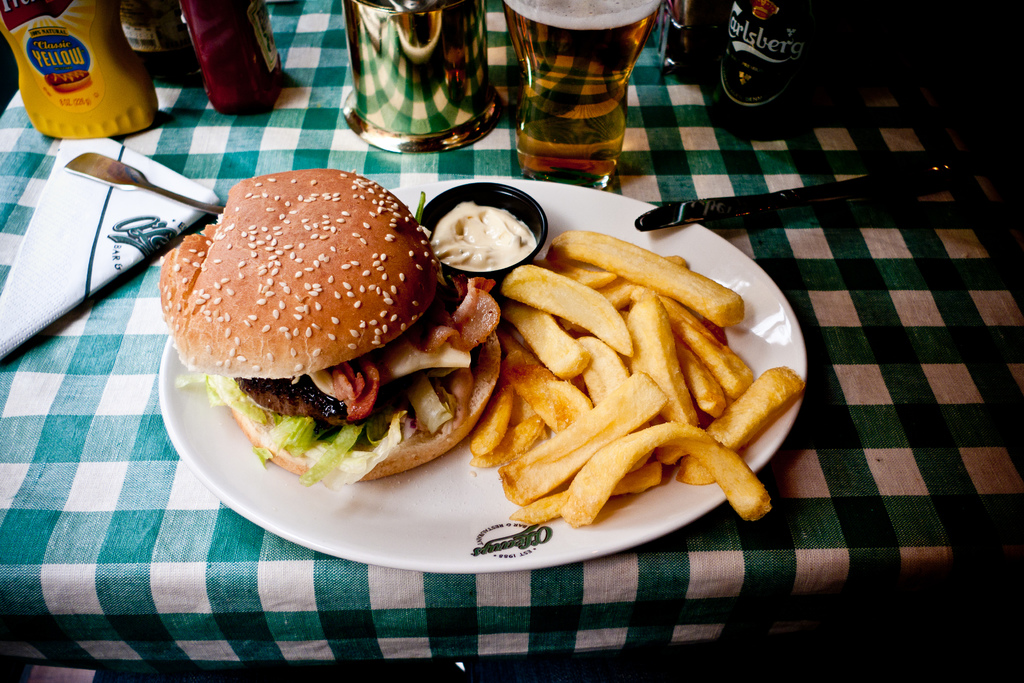Hamburger: (154, 167, 504, 489)
